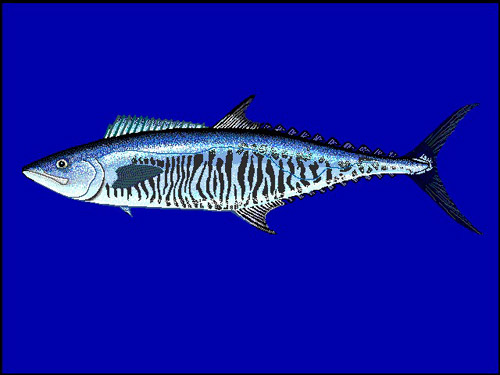fish: (22, 94, 485, 238)
